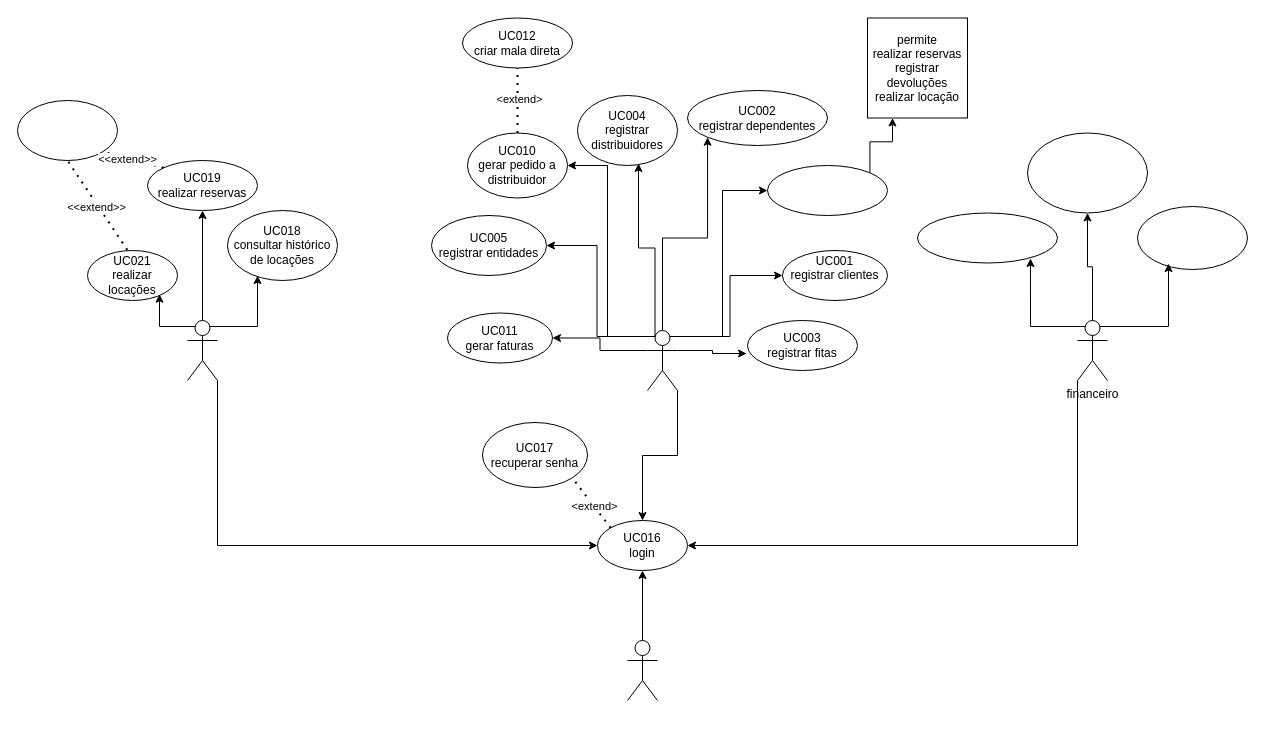
This 1265x738 diagram has some shape labels left out. Each missing label, with the centre of its shape:
"atendente" belongs at [662,360].
"Cliente" belongs at [202,350].
"sistema" belongs at [642,670].
"UC006 locação" belongs at [827,190].
"UC013 registrar pagamentos" belongs at [987,237].
"UC014 consultar pagamentos pendentes" belongs at [1087,172].
"UC015 emitir relatórios de locações" belongs at [1192,238].
"UC020 receber mala direta" belongs at [67,130].
